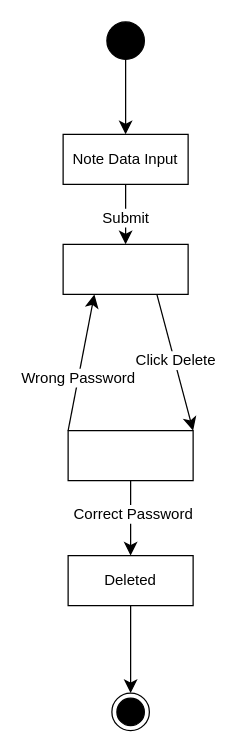
Some shapes in this 239 by 753 pixel diagram are drawn without their labels. Here are the shapes that lost their labels. From the top down, the centre of each, then its label:
the point at 125,268: Saved
the point at 130,455: Pending Deletion
